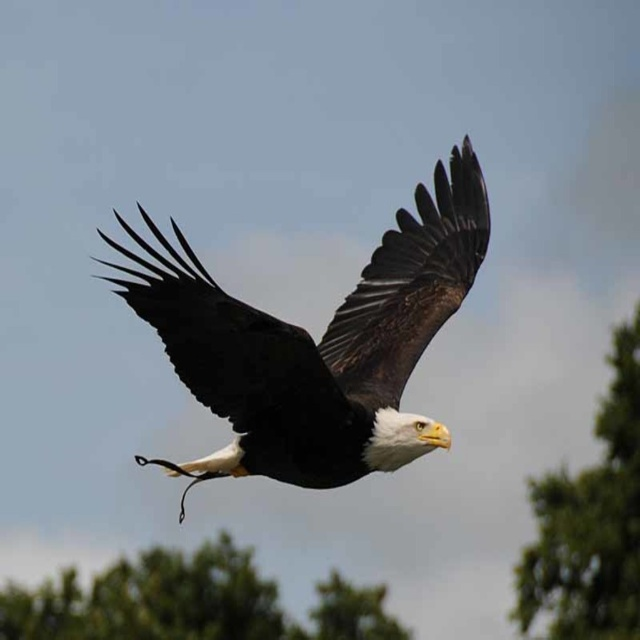Eagle: (88, 133, 490, 519)
